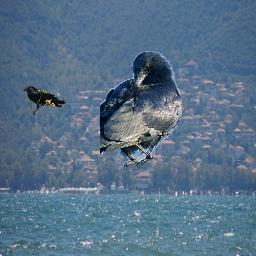Crow: (100, 51, 182, 170), (21, 85, 66, 115)
